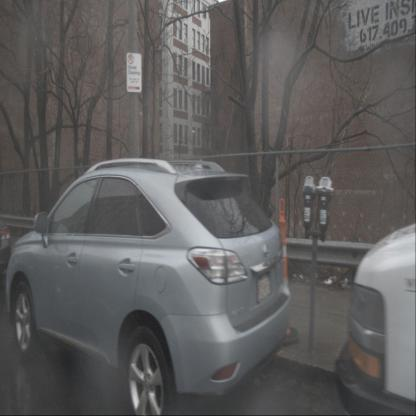movable_object-trafficcone: (269, 197, 300, 348)
vehicle-car: (6, 157, 291, 416)
